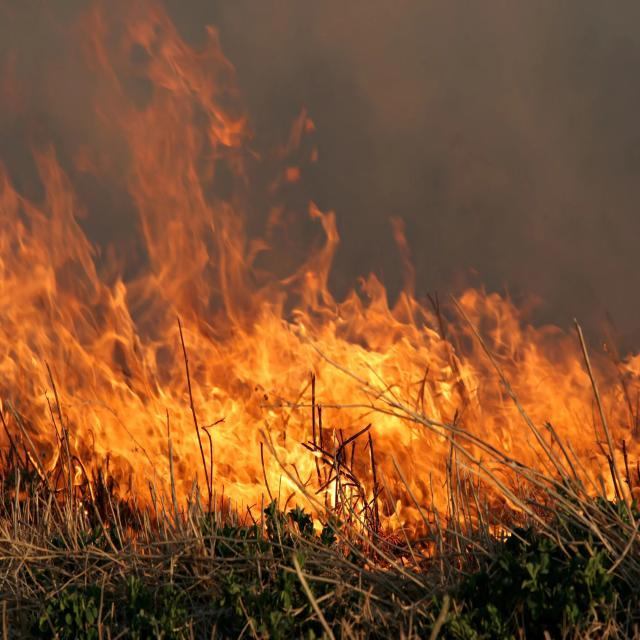Fire: (0, 150, 640, 562)
Smoke: (242, 1, 640, 327)
